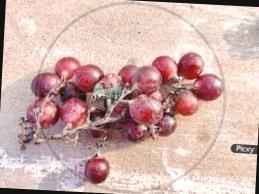Grape Rotten: (22, 42, 224, 154), (83, 154, 109, 184)
